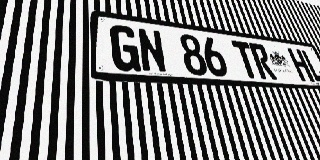6: (199, 36, 230, 77)
8: (178, 33, 209, 76)
G: (110, 24, 141, 72)
H: (287, 48, 315, 82)
L: (300, 50, 320, 82)
N: (137, 28, 168, 73)
R: (248, 43, 277, 80)
T: (231, 40, 261, 79)
